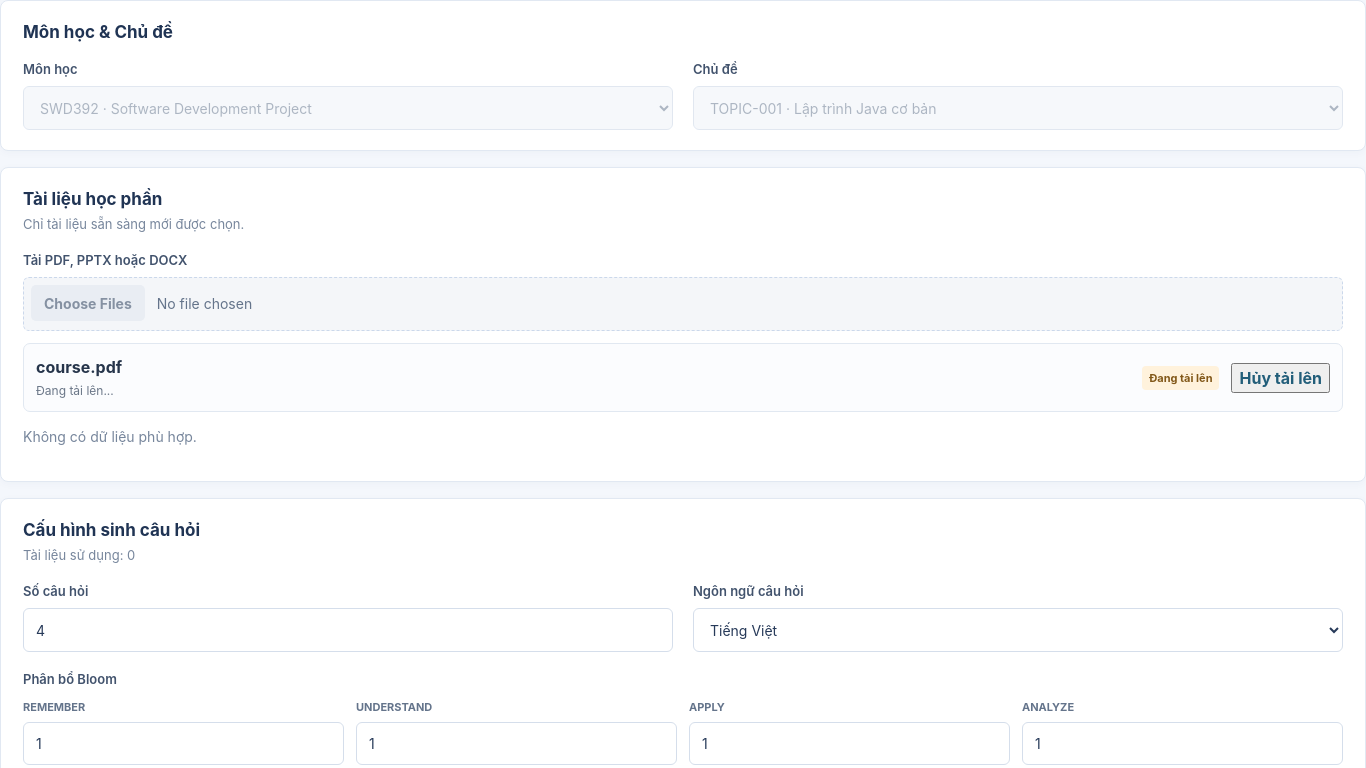
it: GenerateQuestionPage subject and topic selection › cancels an in-flight document upload using the upload request signal
Earlier steps of the test are not shown.
Expected: the text "course.pdf" is shown, [36,355,122,379]
Click the button "Hủy tải lên": x=1281, y=378 [1232,363,1330,393]
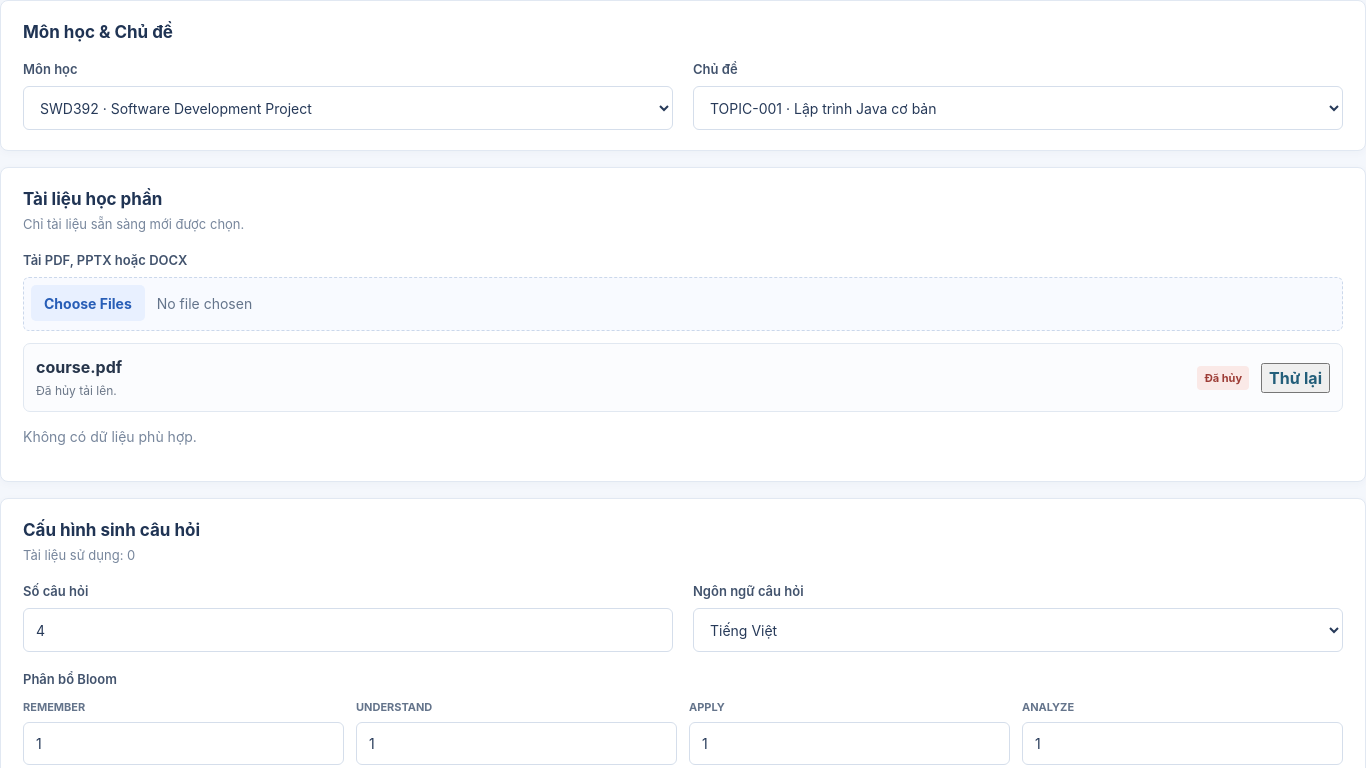
Expected: the text "Đã hủy tải lên." is shown, [36,382,122,400]
